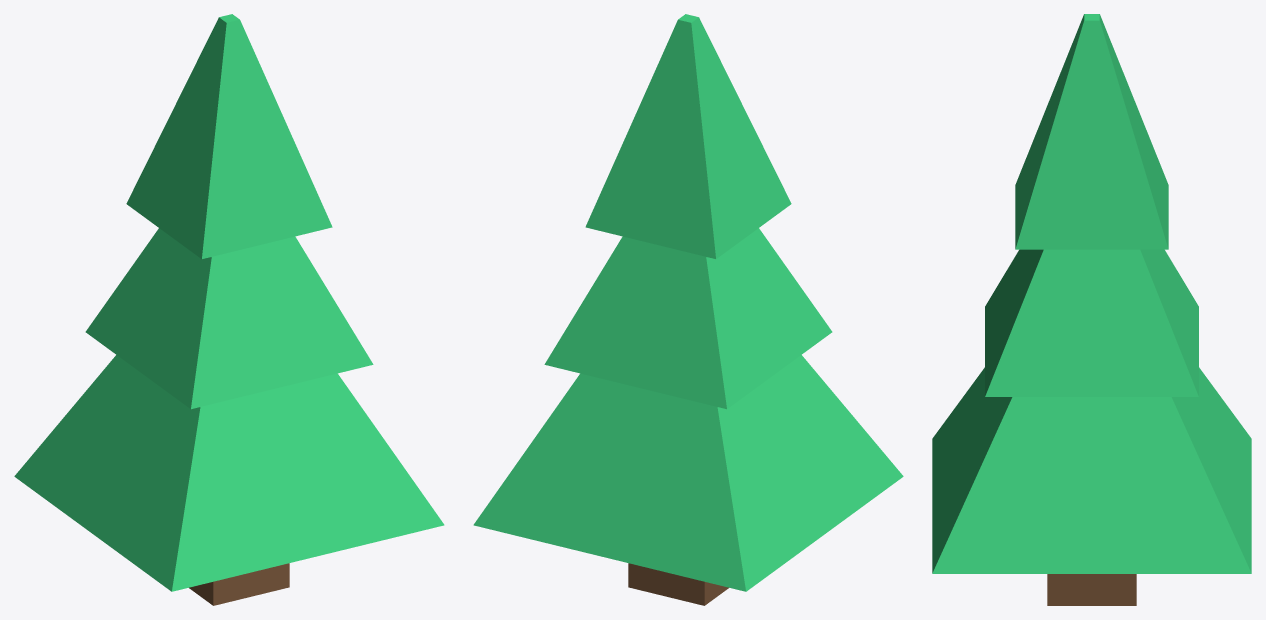
File: pine1.glb
3 renders of one model, left to right at view 1: azimuth 30°, elevation 25°; view 2: azimuth 150°, elevation 25°; view 3: azimuth 270°, elevation 25°, orthographic.
Parts seen in each view (by area): view 1: Pine2; view 2: Pine2; view 3: Pine2.
Part boxes in pixels (x1,y1,x2,y2): Pine2: (14, 14, 444, 605); Pine2: (473, 14, 903, 605); Pine2: (932, 14, 1251, 605).
Bounding box in the file's own units: 1.13 × 2.22 × 1.13.
